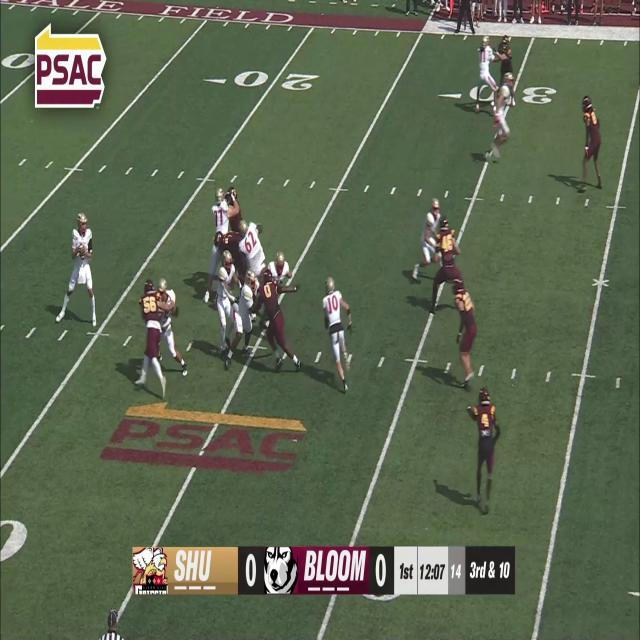football: (78, 243, 86, 260)
